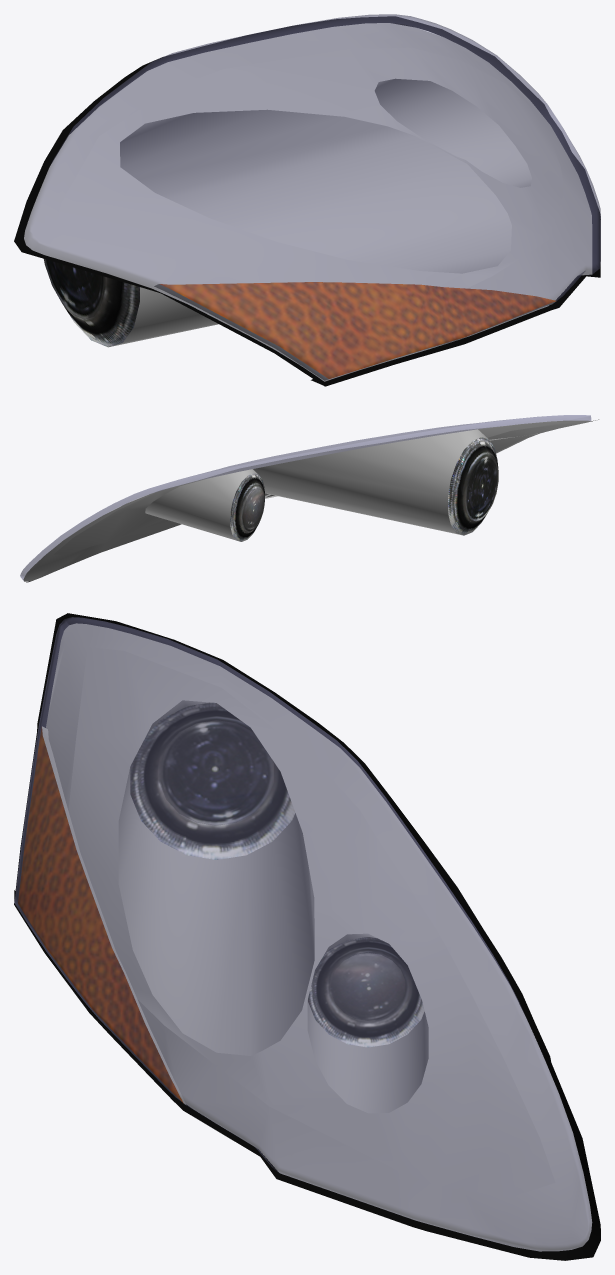
3 renders of one model, top to bottom at view 1: azimuth 30°, elevation 25°; view 2: azimuth 150°, elevation 25°; view 3: azimuth 270°, elevation 25°, orthographic. The views are drawn at different scales.
Visible parts, largest first — view 1: Y613_061B_R_Y613_061B_R_6_DTaSI, Y613_061B_R_Y613_061B_R_3_DaS, Y613_061B_R_2_N_Y613_061B_R, Y613_061B_R_Y613_061B_R_7_D, Y613_061B_R_Y613_061B_R_4_N; view 2: Y613_061B_R_Y613_061B_R_3_DaS, Y613_061B_R_Y613_061B_R_6_DTaSI, Y613_061B_R_Y613_061B_R_4_N, Y613_061B_R_Y613_061B_R_1_N; view 3: Y613_061B_R_Y613_061B_R_6_DTaSI, Y613_061B_R_Y613_061B_R_3_DaS, Y613_061B_R_Y613_061B_R_4_N, Y613_061B_R_2_N_Y613_061B_R, Y613_061B_R_Y613_061B_R_7_D, Y613_061B_R_Y613_061B_R_1_N.
Part boxes in pixels (x1,y1,x2,y2): Y613_061B_R_Y613_061B_R_6_DTaSI: [24, 14, 600, 381]; Y613_061B_R_Y613_061B_R_3_DaS: [24, 23, 592, 381]; Y613_061B_R_2_N_Y613_061B_R: [160, 282, 555, 378]; Y613_061B_R_Y613_061B_R_7_D: [14, 16, 600, 386]; Y613_061B_R_Y613_061B_R_4_N: [44, 259, 139, 347]; Y613_061B_R_Y613_061B_R_3_DaS: [23, 420, 590, 581]; Y613_061B_R_Y613_061B_R_6_DTaSI: [20, 415, 591, 580]; Y613_061B_R_Y613_061B_R_4_N: [448, 437, 498, 535]; Y613_061B_R_Y613_061B_R_1_N: [230, 473, 264, 541]; Y613_061B_R_Y613_061B_R_6_DTaSI: [14, 617, 591, 1251]; Y613_061B_R_Y613_061B_R_3_DaS: [42, 623, 592, 1251]; Y613_061B_R_Y613_061B_R_4_N: [130, 702, 295, 859]; Y613_061B_R_2_N_Y613_061B_R: [18, 727, 183, 1102]; Y613_061B_R_Y613_061B_R_7_D: [14, 613, 600, 1260]; Y613_061B_R_Y613_061B_R_1_N: [308, 937, 424, 1047].
Bounding box in the file's own units: 58.44 × 22.41 × 39.65.
